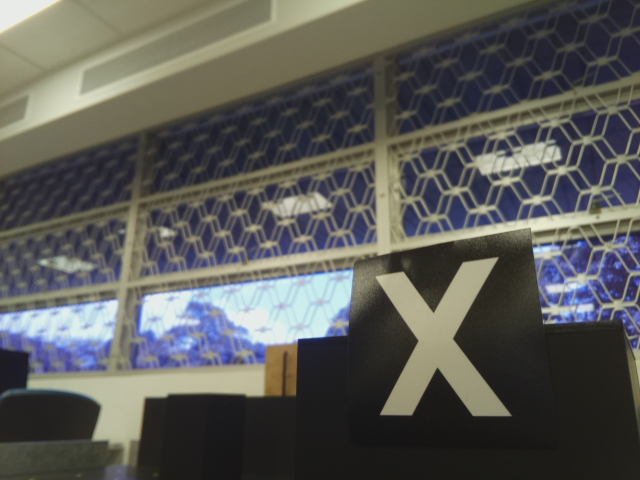x: (368, 263, 524, 427)
